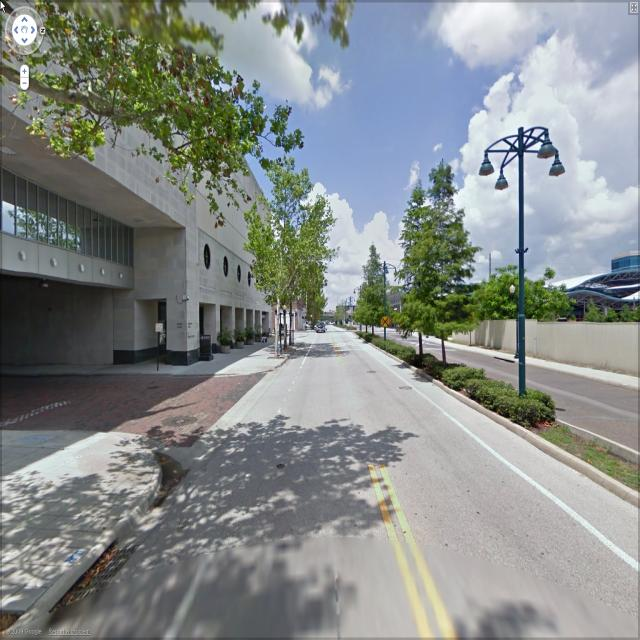b_2: (1, 8, 300, 341), (326, 270, 442, 340)
